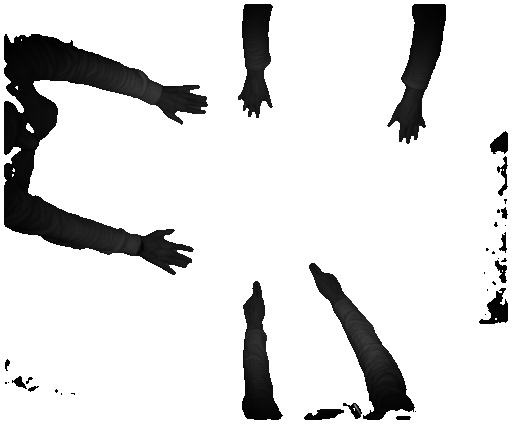hand: (145, 225, 199, 279), (162, 84, 207, 127), (384, 102, 431, 143), (304, 256, 343, 303), (236, 78, 279, 119), (240, 280, 271, 326)
